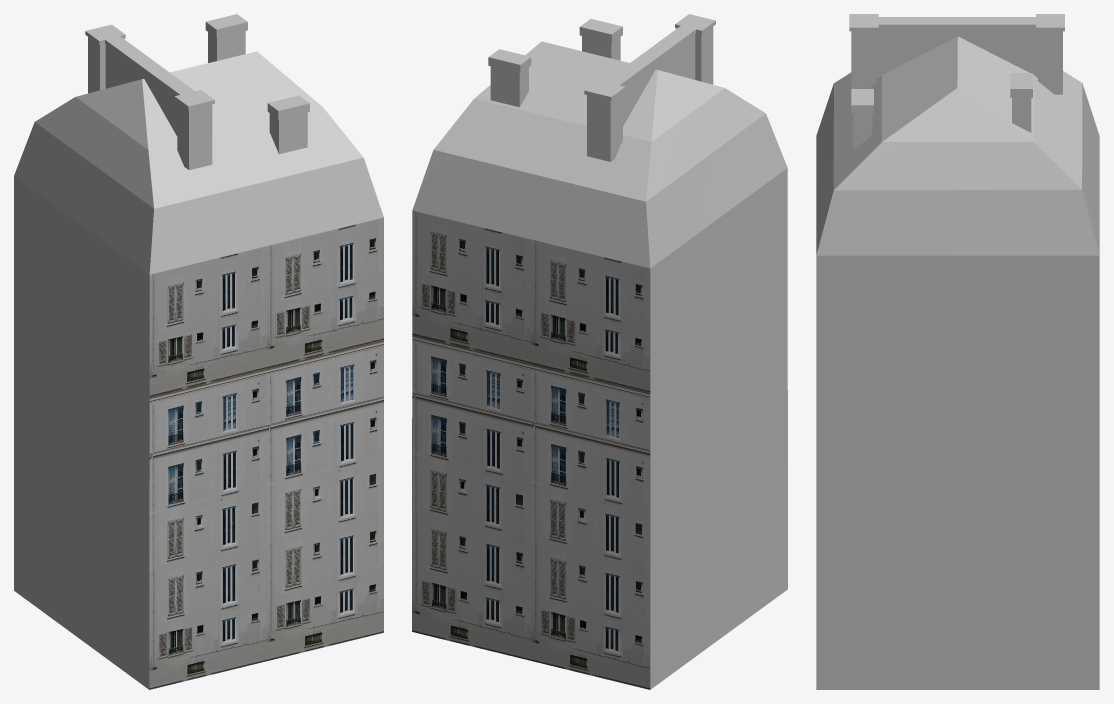
File: LOD01_Builiding_ParisPopular.obj
3 renders of one model, left to right at view 1: azimuth 30°, elevation 25°; view 2: azimuth 150°, elevation 25°; view 3: azimuth 270°, elevation 25°, orthographic. The views are drawn at different scales.
Visible parts, largest first — view 1: LOD01_Builiding_ParisPopular; view 2: LOD01_Builiding_ParisPopular; view 3: LOD01_Builiding_ParisPopular.
Part boxes in pixels (x1,y1,x2,y2): LOD01_Builiding_ParisPopular: [14, 14, 383, 689]; LOD01_Builiding_ParisPopular: [412, 14, 787, 689]; LOD01_Builiding_ParisPopular: [816, 14, 1099, 689].
Bounding box in the file's own units: 3.9 × 8.87 × 3.9.
